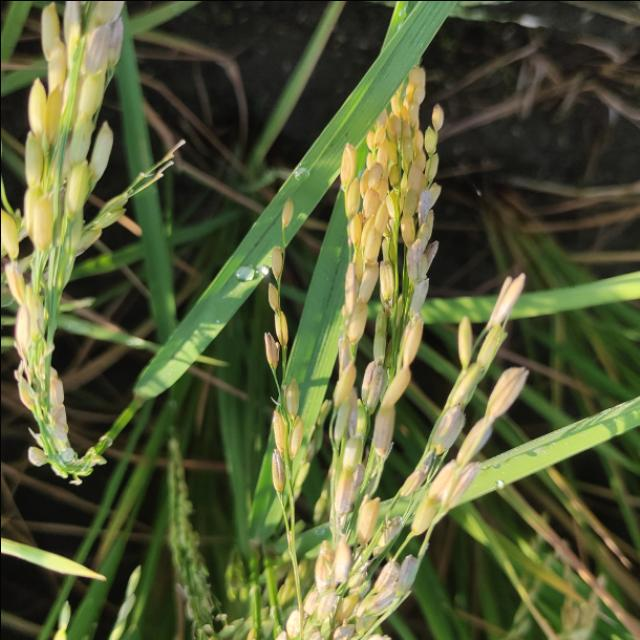Brown spot: (0, 532, 110, 584)
insects: (326, 137, 336, 150), (340, 128, 350, 138), (250, 238, 260, 248)
